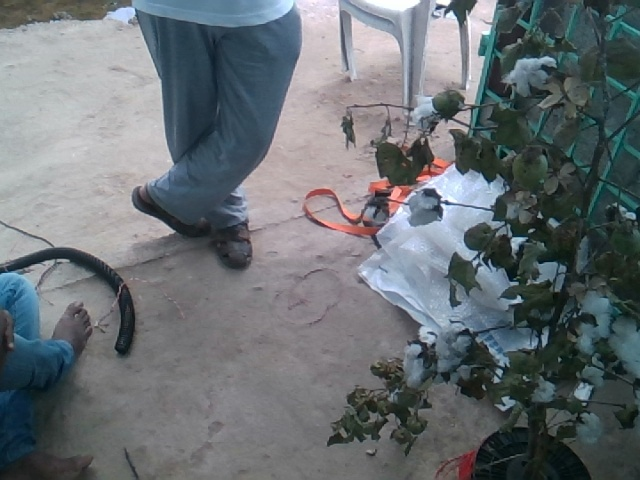cotton: (579, 286, 612, 353), (505, 56, 557, 94), (613, 310, 640, 379), (436, 327, 470, 374), (408, 188, 437, 227), (403, 343, 423, 391), (408, 95, 436, 129), (576, 415, 607, 445)
